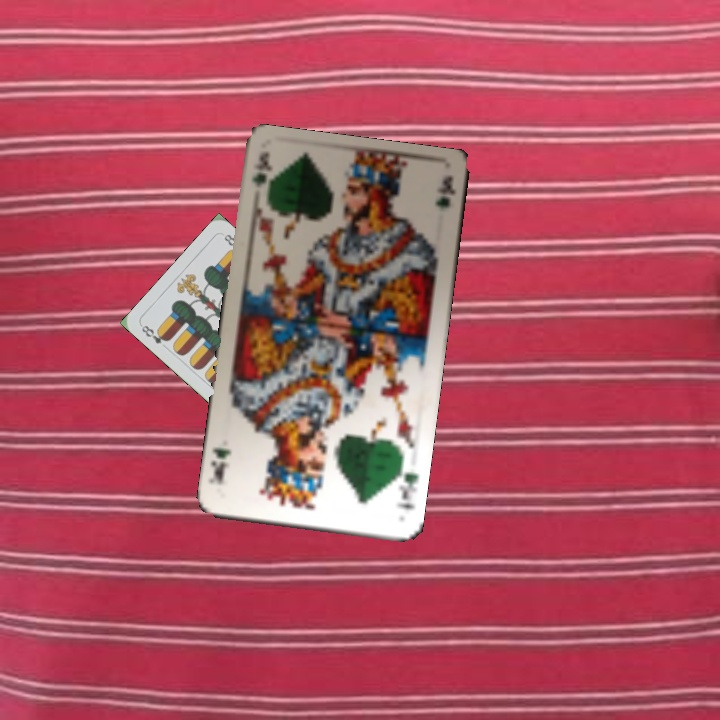E8: (137, 321, 172, 346)
GK: (248, 149, 274, 209), (392, 459, 421, 511)
